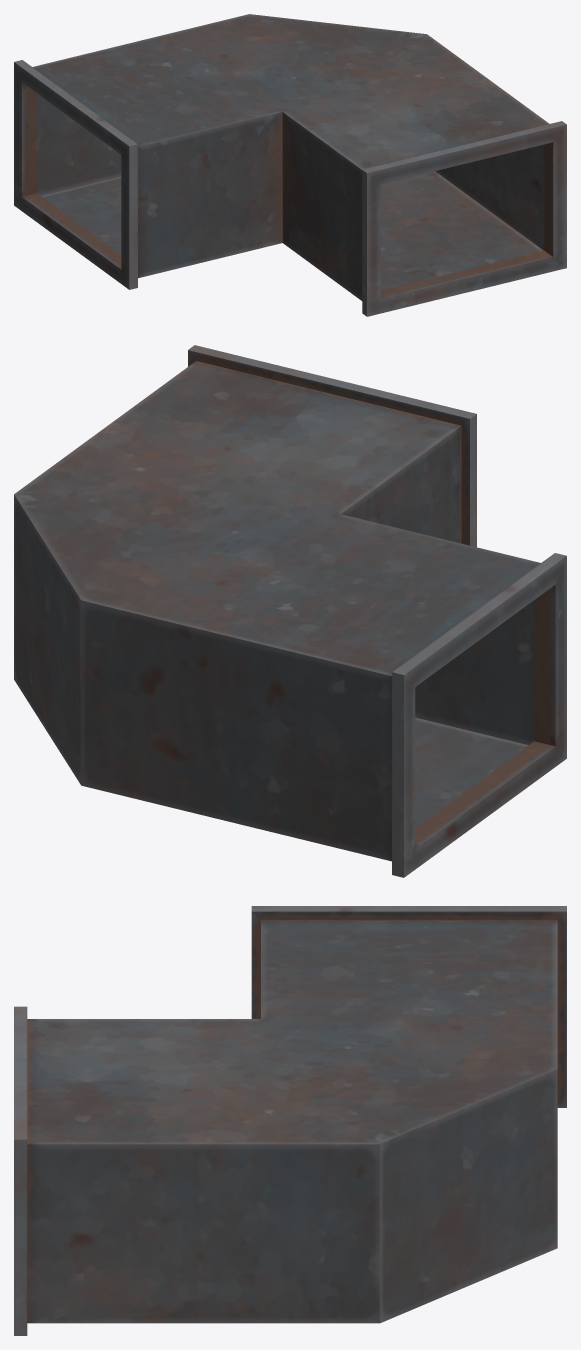
Rendered from Vent_L_A.fbx.
3 views of the same model, one above another, from view 1: azimuth 30°, elevation 25°; view 2: azimuth 150°, elevation 25°; view 3: azimuth 270°, elevation 25° (orthographic). The views are drawn at different scales.
Visible parts, largest first — view 1: Cube.006; view 2: Cube.006; view 3: Cube.006.
Part boxes in pixels (box(x1,y1,x2,y2)): Cube.006: box(14, 14, 566, 316); Cube.006: box(14, 345, 566, 877); Cube.006: box(14, 906, 566, 1335).
Size of the model in its own units: 280 by 109 by 280.
